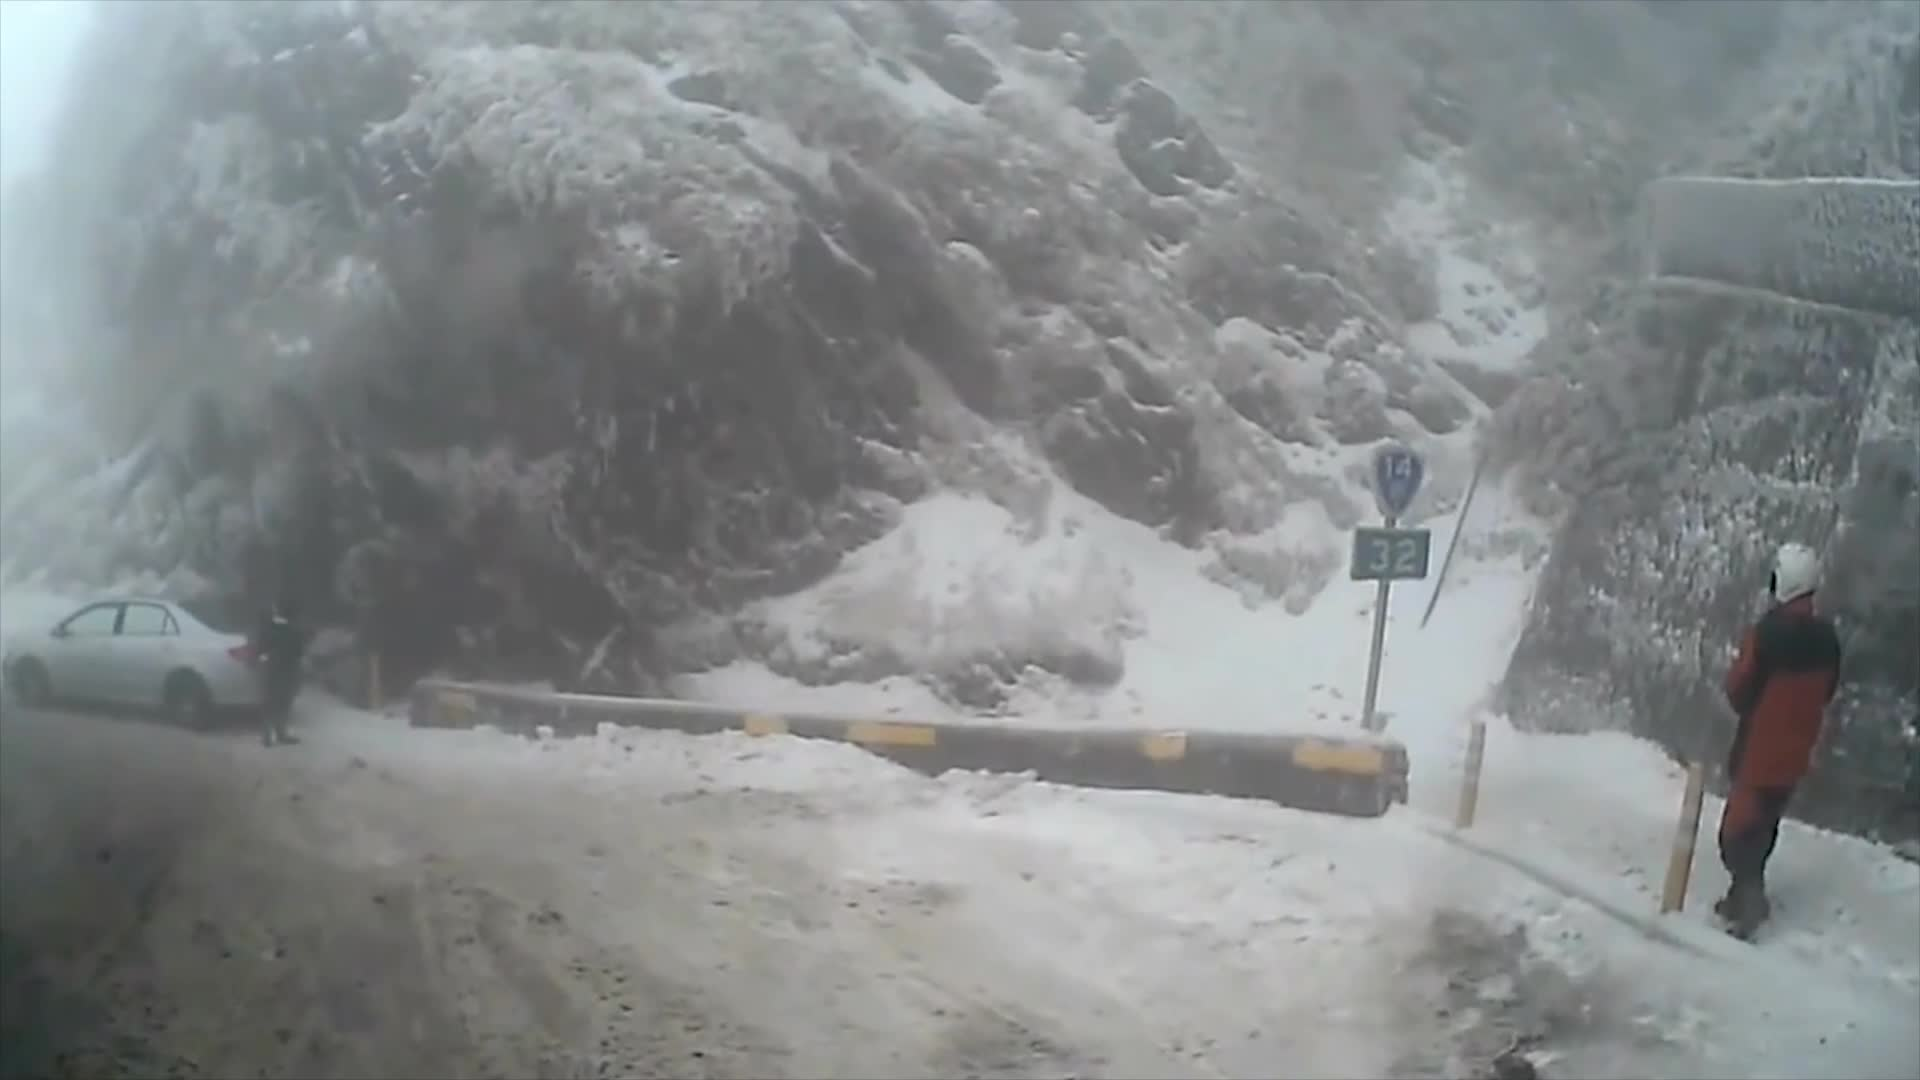pedestrian: (1706, 544, 1851, 945), (257, 591, 307, 739)
vehicle: (6, 593, 287, 732)
